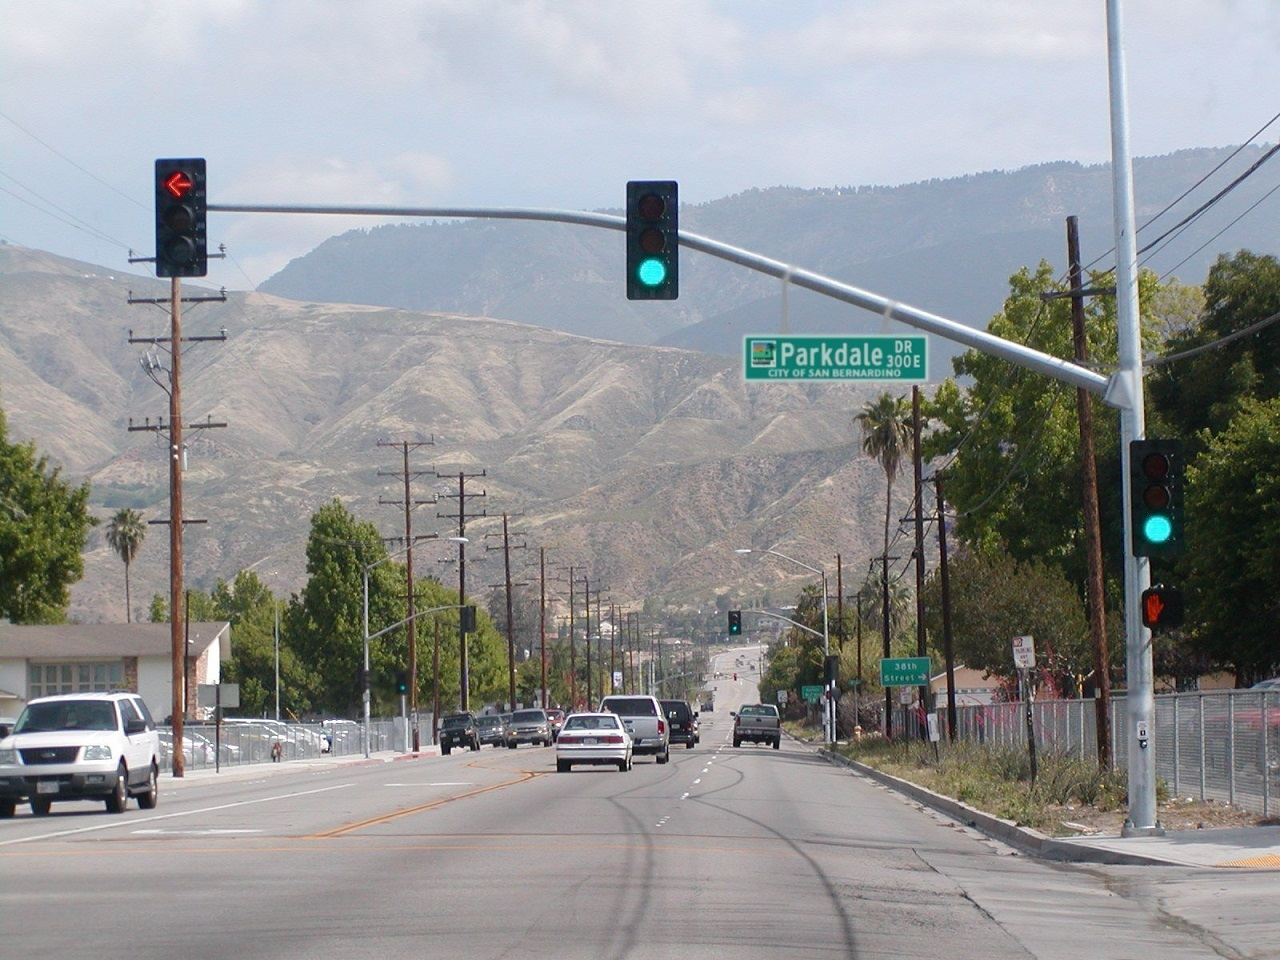traffic_light: (1128, 438, 1188, 560), (624, 179, 681, 302), (153, 157, 209, 279)
